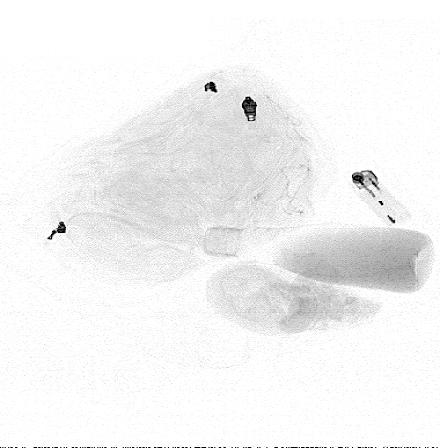Lighter: (350, 170, 411, 227)
